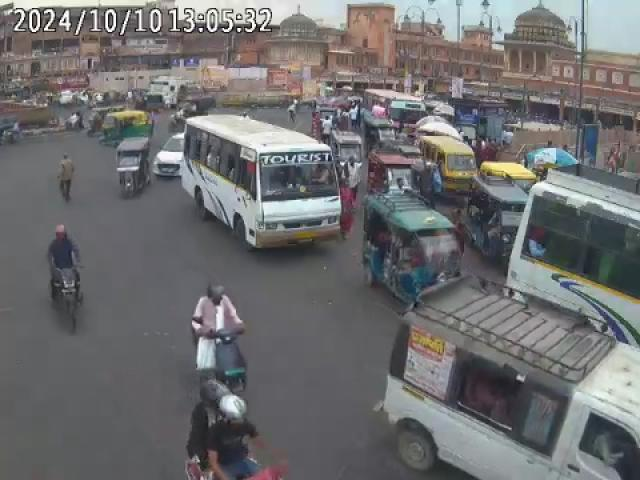auto: (362, 190, 466, 308), (460, 176, 532, 264), (418, 134, 478, 198), (114, 137, 153, 200), (97, 109, 153, 148)
bus: (378, 274, 640, 480), (508, 164, 640, 349), (182, 115, 340, 247), (362, 90, 428, 134)
car: (154, 130, 184, 180)
helmet: (218, 396, 251, 426), (202, 380, 230, 404), (206, 282, 229, 303), (54, 225, 69, 244)
license_plate: (289, 232, 317, 243)
motorbike-rider: (182, 374, 286, 480), (46, 222, 86, 334)
person: (58, 154, 76, 204), (68, 111, 82, 131)
scooty-rider: (188, 282, 252, 402)
